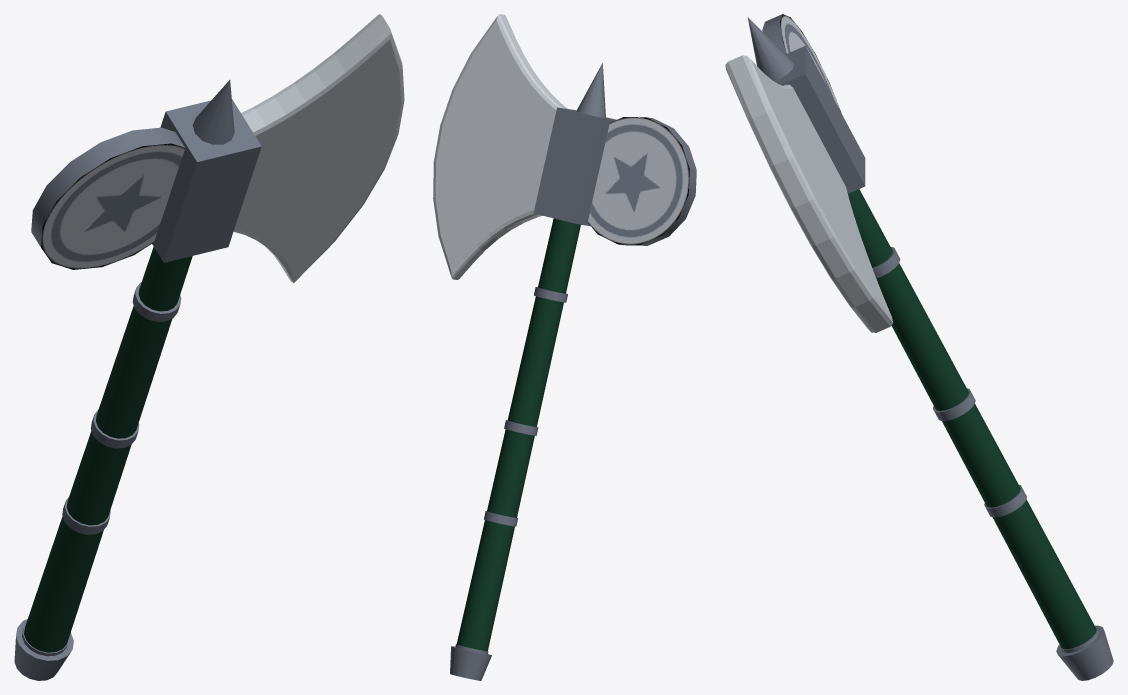
Rendered from hand_eqtz0.glb.
3 renders of one model, left to right at view 1: azimuth 30°, elevation 25°; view 2: azimuth 150°, elevation 25°; view 3: azimuth 270°, elevation 25°, orthographic. The views are drawn at different scales.
Bounding box in the file's own units: 2.27 × 4.7 × 2.41.
Materials: 4 (1 with a texture image).
